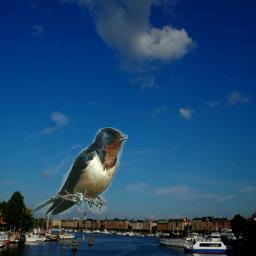Swallow: (30, 127, 128, 215)
